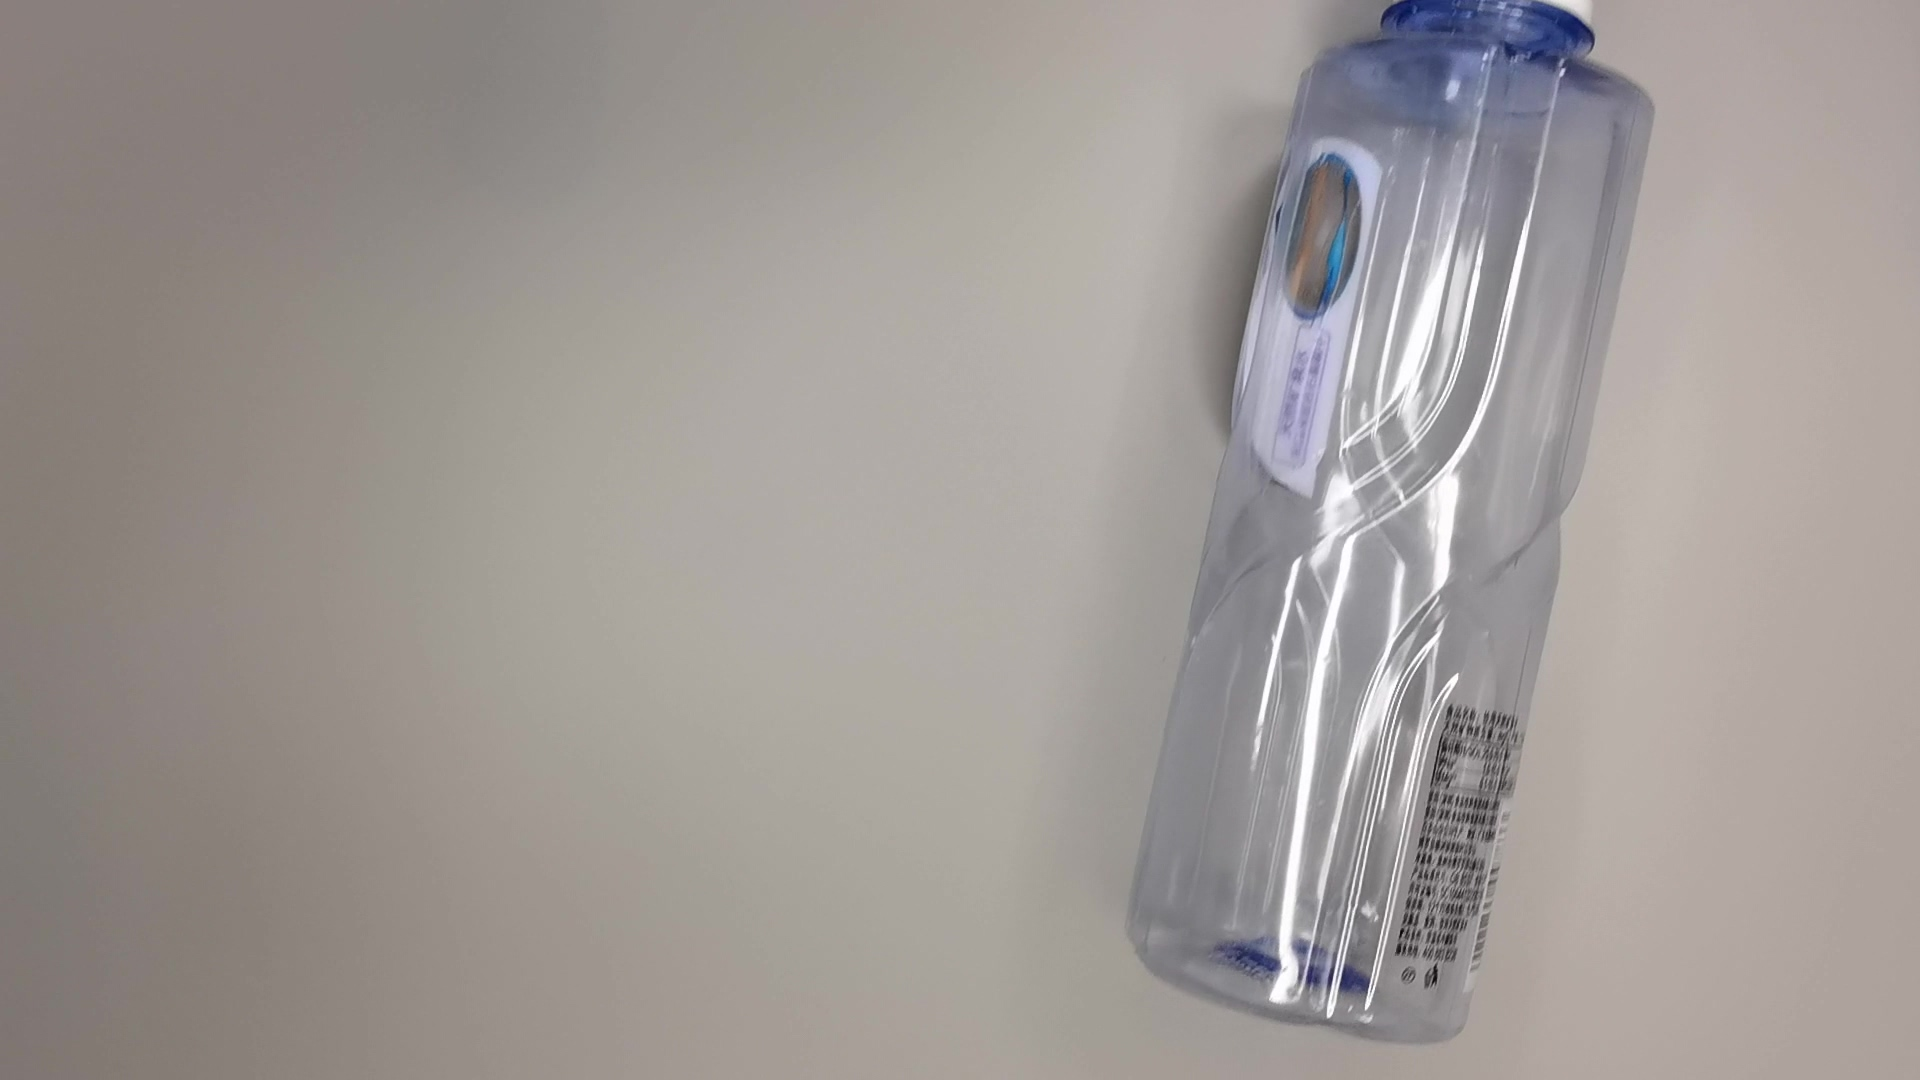bottle: (1124, 1, 1663, 1054)
